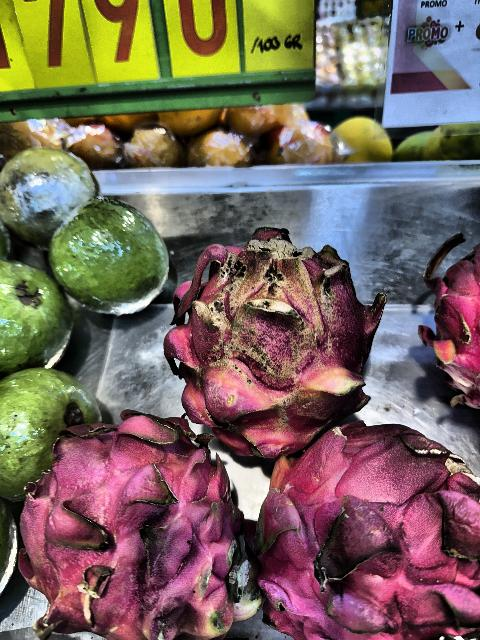buah-naga-belum-matang: (148, 226, 376, 444)
buah-naga-matang: (22, 412, 256, 640), (262, 422, 480, 640)
